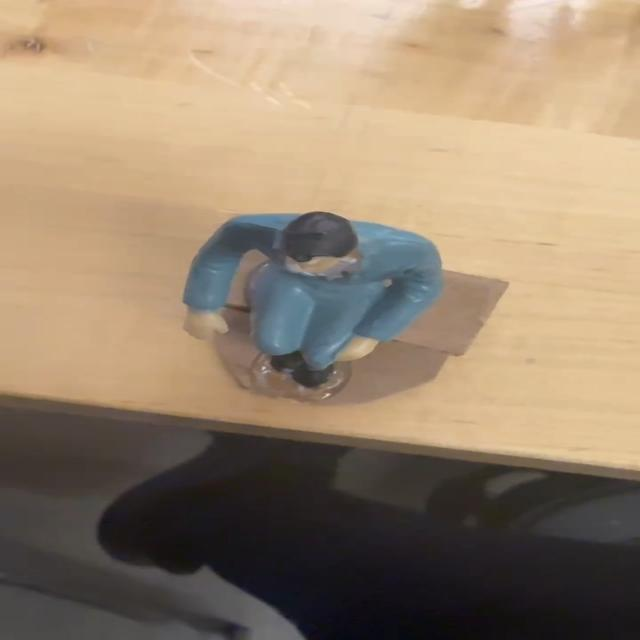Authorized: (128, 202, 460, 410)
